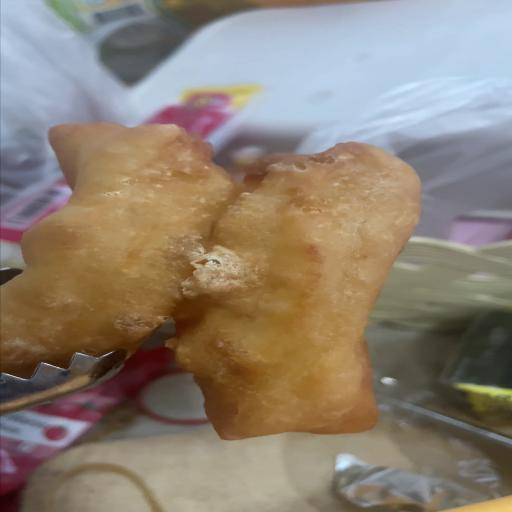street_burnt_defect: (0, 122, 421, 440)
